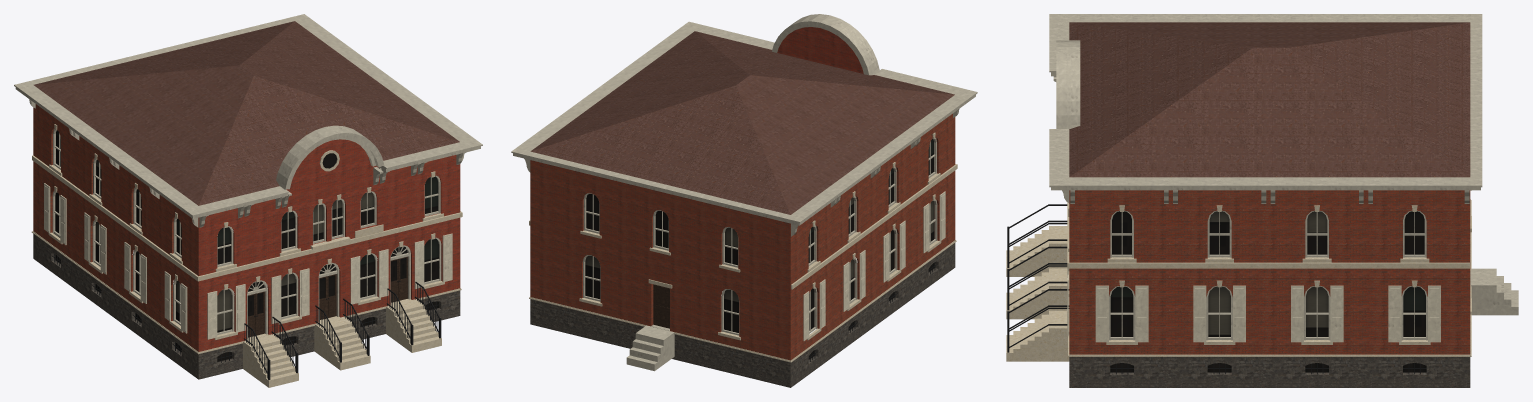
Rendered from county-offices.glb.
3 views of the same model, side by side, from view 1: azimuth 30°, elevation 25°; view 2: azimuth 150°, elevation 25°; view 3: azimuth 270°, elevation 25° (orthographic). The views are drawn at different scales.
Visible parts, largest first — view 1: CountyOffices; view 2: CountyOffices; view 3: CountyOffices.
Part boxes in pixels (box(x1,y1,x2,y2)): CountyOffices: box(14, 14, 482, 387); CountyOffices: box(511, 14, 977, 387); CountyOffices: box(1006, 14, 1518, 387).
Bounding box in the file's own units: 15.42 × 11.04 × 19.45.
Materials: 11 (9 with a texture image).
